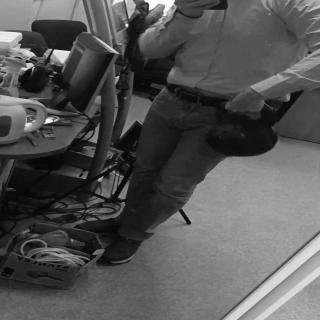kettlebell: (205, 101, 282, 159)
